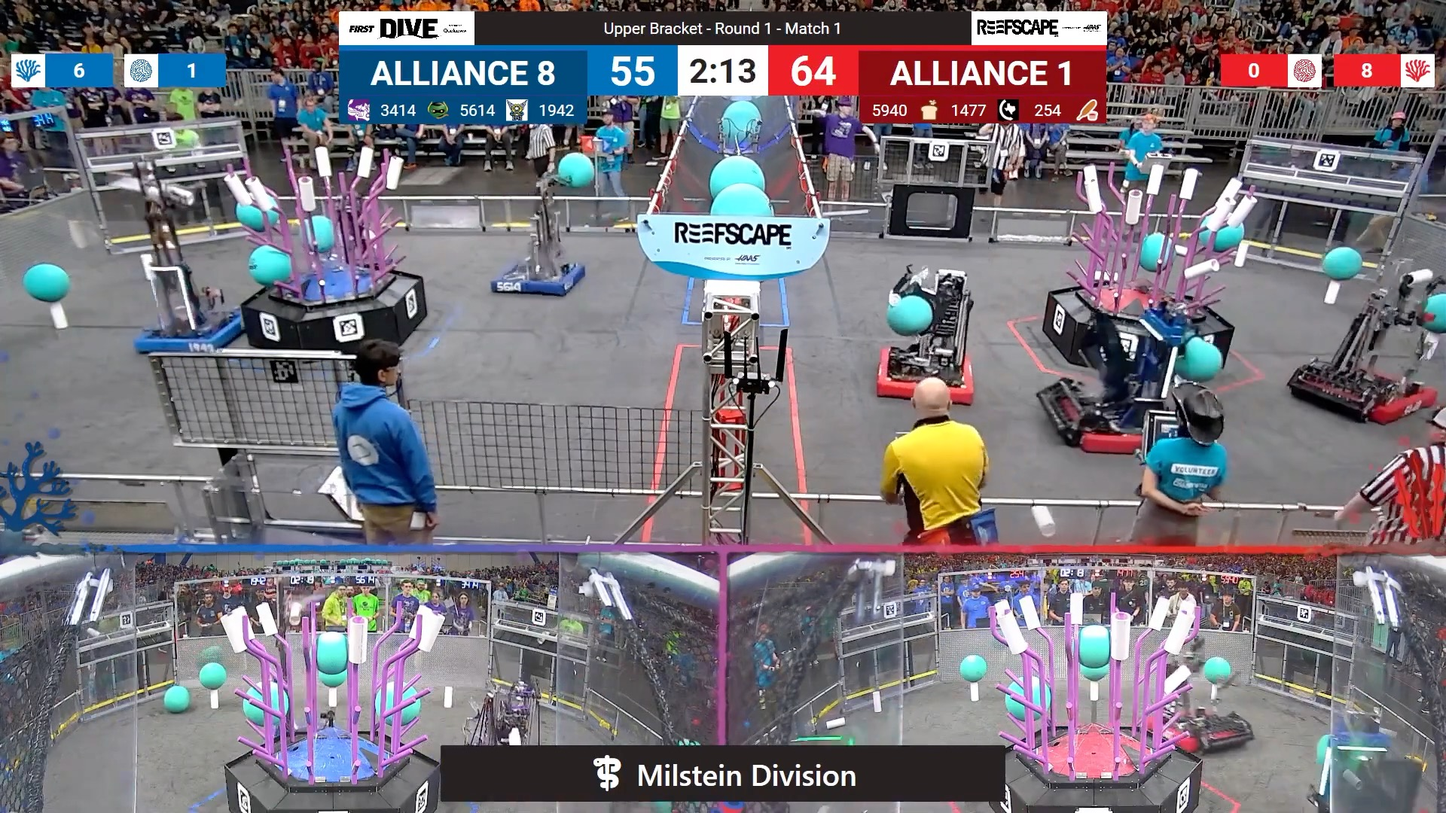bumpers: (1280, 358, 1438, 422), (1038, 389, 1183, 457), (125, 300, 249, 363), (870, 346, 985, 413), (487, 257, 592, 301), (1138, 715, 1249, 753)
